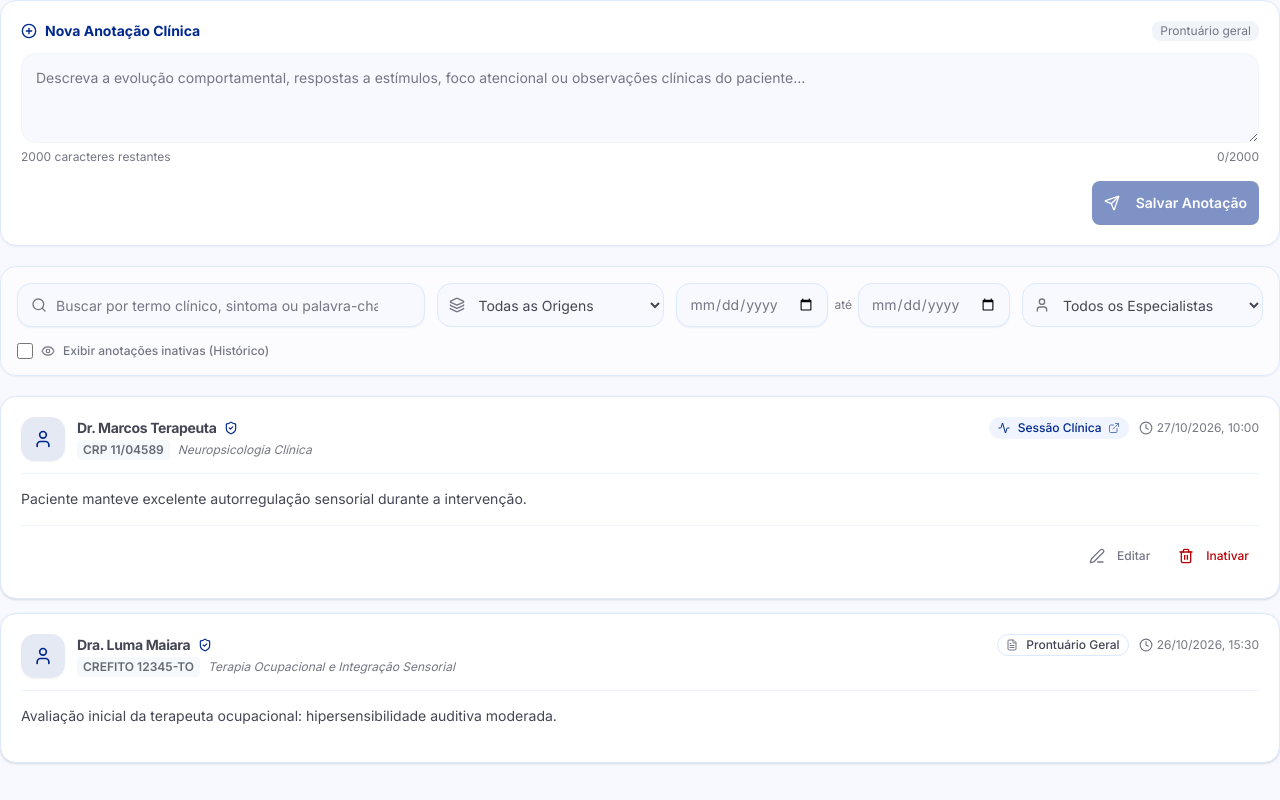
Test: GerenciadorAnotacoesProntuario e Componentes Modulares (Sprint 12) › 5. Filtros de Anotações Clínicas › deve filtrar anotações por busca textual em tempo real
Expected: the element with test id "anotacoes-lista" is shown, [0,396,1279,762]
Type "hipersensibilidade" into the search field with test id "input-busca-anotacao" at (221, 305), box [17,283,426,327]
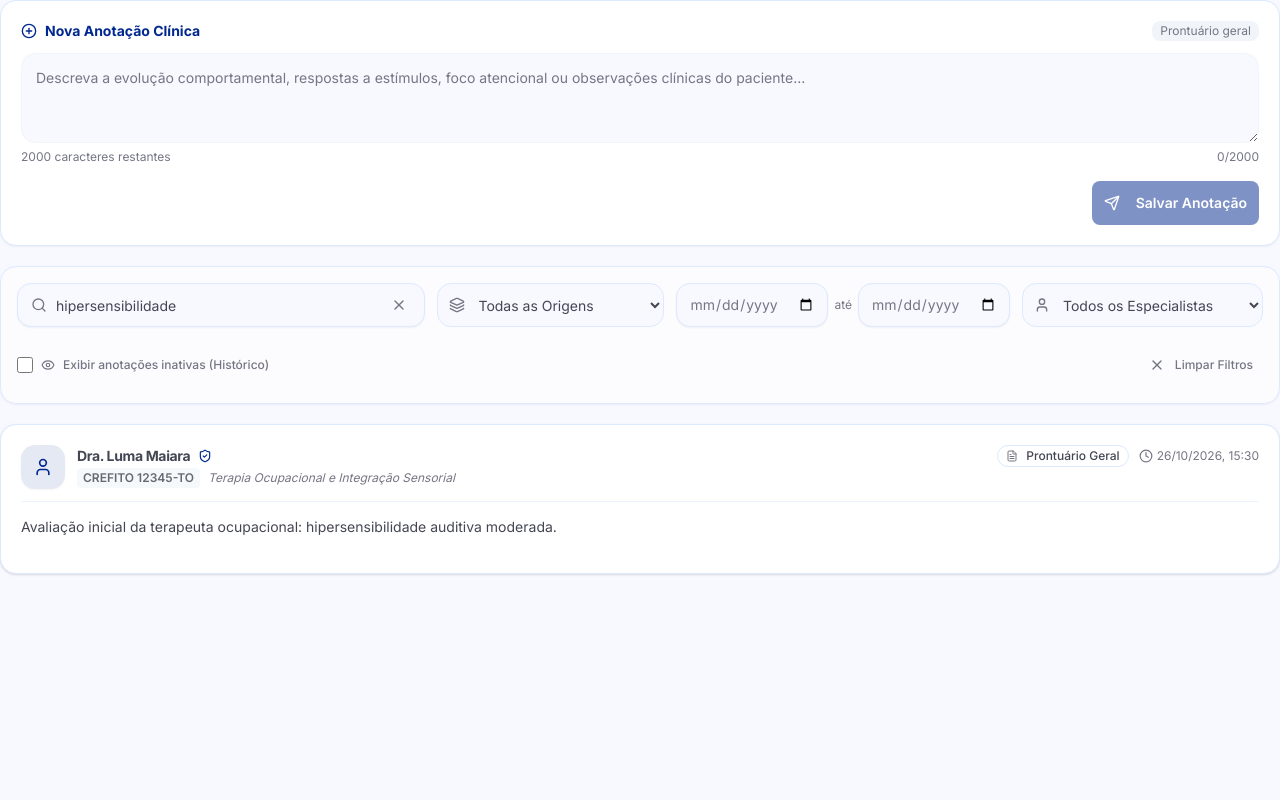
Expected: the text "Avaliação inicial da terapeuta" is shown, [21,518,557,535]
Result: the text "Paciente manteve excelente autorregulação" is gone
